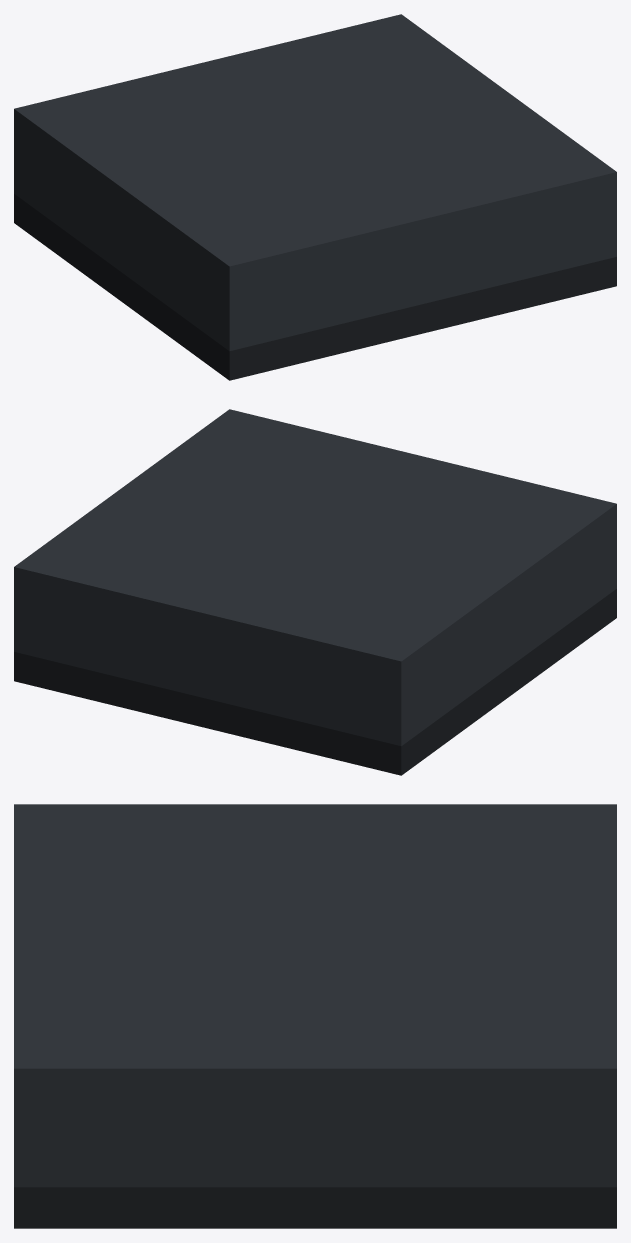
The model's file is inf_driver_foot_r.fbx.
The picture shows the model from 3 angles, top to bottom: view 1: azimuth 30°, elevation 25°; view 2: azimuth 150°, elevation 25°; view 3: azimuth 270°, elevation 25°; orthographic projection. The views are drawn at different scales.
Visible parts, largest first — view 1: inf_driver_foot_r; view 2: inf_driver_foot_r; view 3: inf_driver_foot_r.
Boxes of the visible parts, <box> form: inf_driver_foot_r: <box>14,14,616,380</box>; inf_driver_foot_r: <box>14,409,616,775</box>; inf_driver_foot_r: <box>14,804,616,1228</box>.
Bounding box in the file's own units: 110 × 31 × 106.
